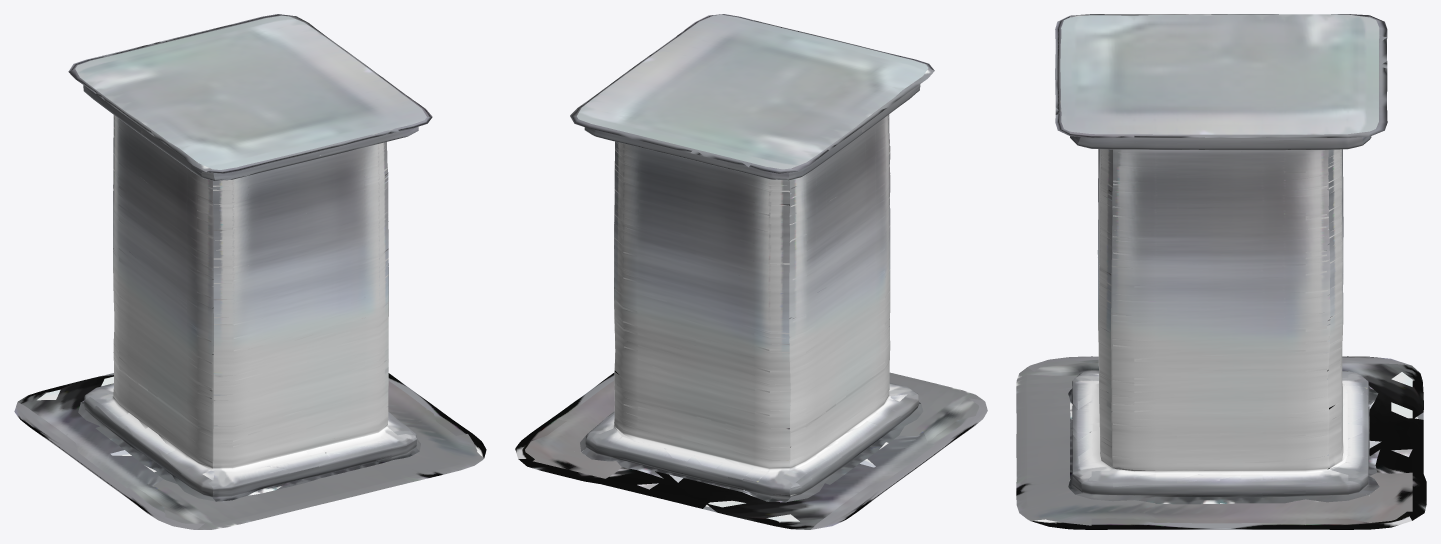
File: feature-radio-mast.glb
The picture shows the model from 3 angles, left to right: view 1: azimuth 30°, elevation 25°; view 2: azimuth 150°, elevation 25°; view 3: azimuth 270°, elevation 25°; orthographic projection. The views are drawn at different scales.
Visible parts, largest first — view 1: tmpp9vrrdgp.ply; view 2: tmpp9vrrdgp.ply; view 3: tmpp9vrrdgp.ply.
Boxes of the visible parts, x1,y1,x2,y2 form: tmpp9vrrdgp.ply: (14, 14, 486, 529); tmpp9vrrdgp.ply: (515, 14, 987, 529); tmpp9vrrdgp.ply: (1016, 14, 1426, 529).
Bounding box in the file's own units: 1 × 1 × 1.
1 material, 1 textured.
